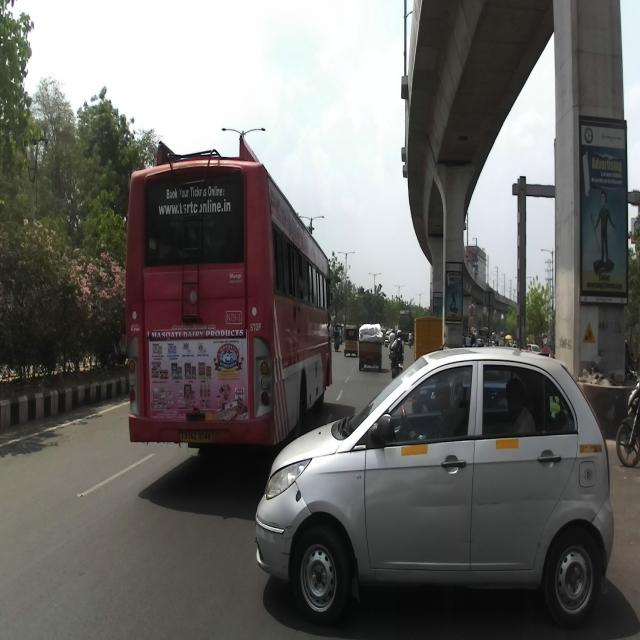bus: (125, 132, 334, 447)
car: (254, 346, 613, 630)
motorcycle: (614, 382, 640, 471)
